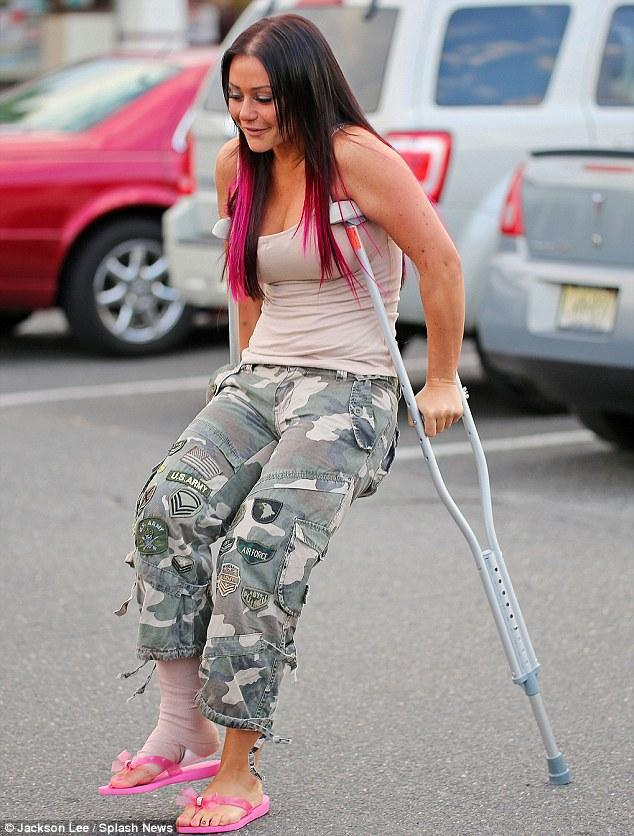crutches: (96, 21, 572, 832)
